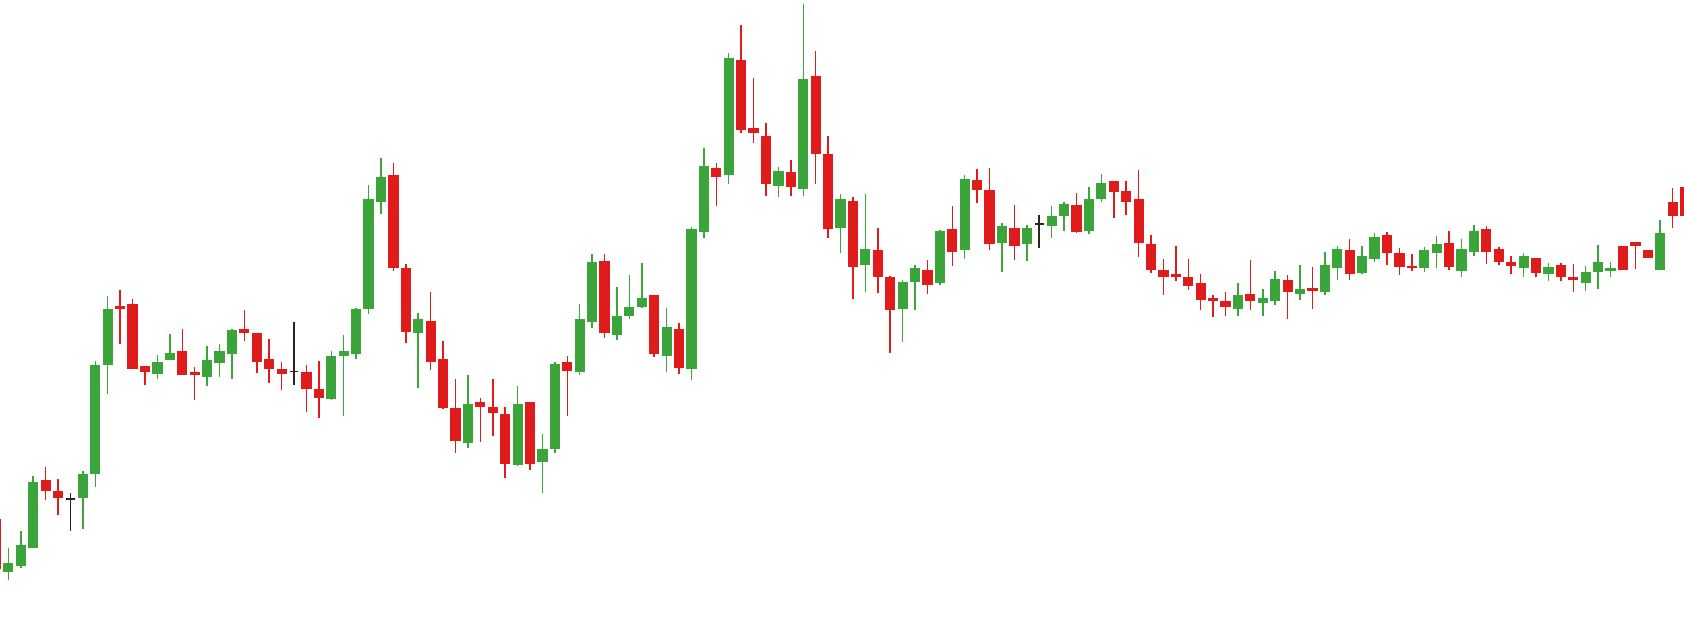sell: (103, 160, 411, 362), (737, 3, 823, 177)
